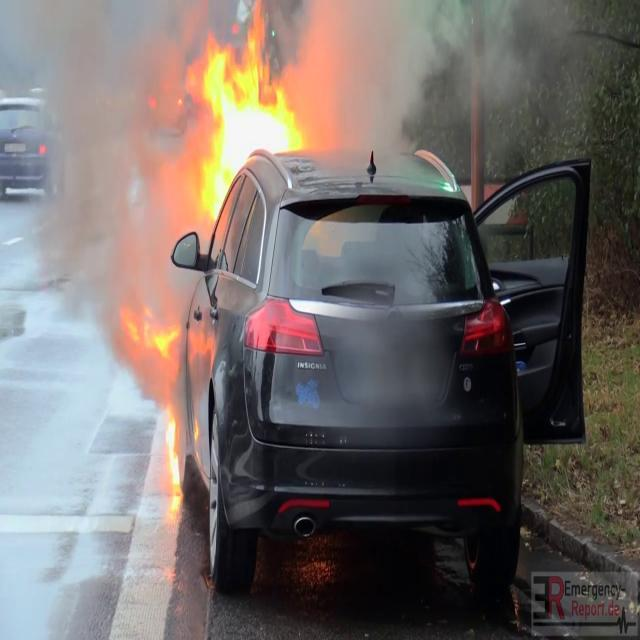Fire: (184, 11, 308, 216), (122, 300, 183, 362), (164, 406, 183, 506)
Smoke: (2, 0, 196, 360), (302, 0, 602, 167)
